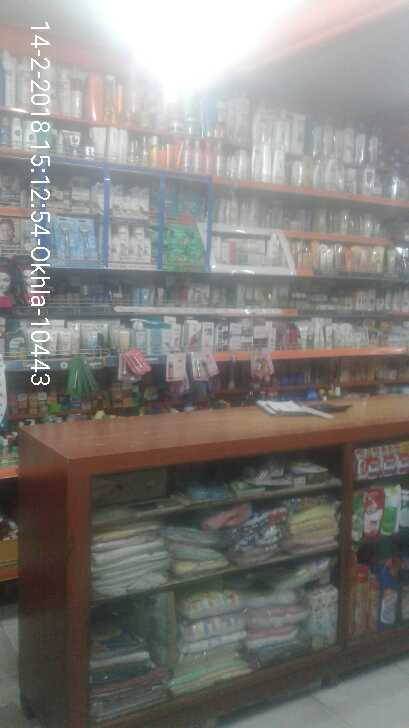venus: (56, 218, 76, 257), (76, 218, 95, 257)
